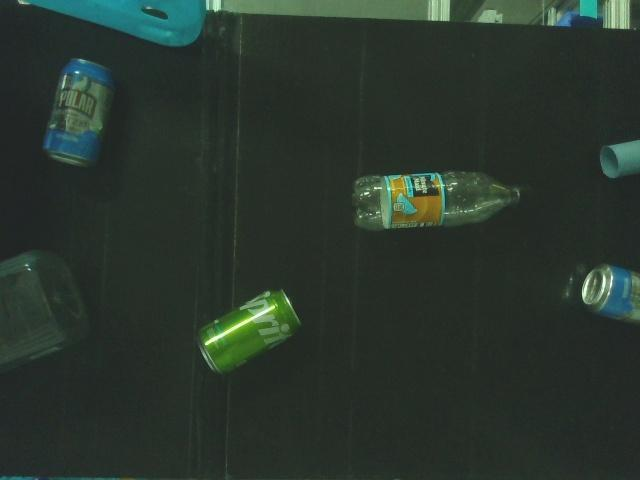cardboard: (599, 136, 640, 182)
metal: (194, 284, 306, 380), (41, 55, 120, 172), (579, 258, 640, 328)
plastic: (0, 245, 92, 379), (350, 168, 536, 234)
